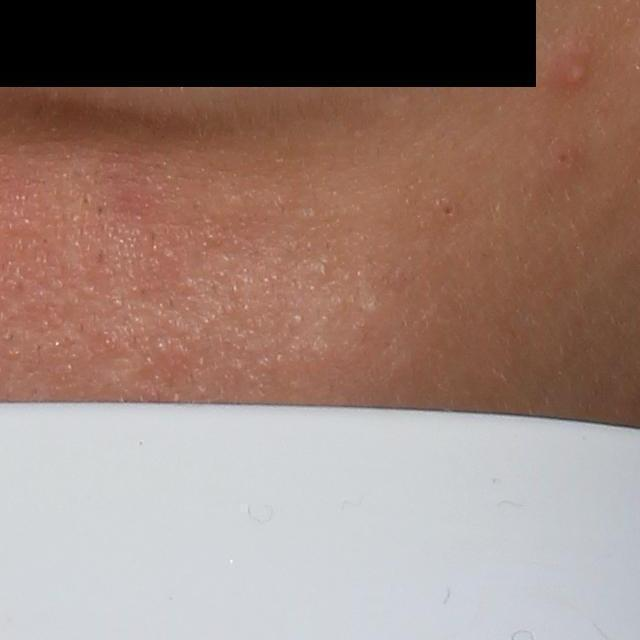comedo: (437, 195, 460, 223)
papule: (543, 137, 587, 182)
